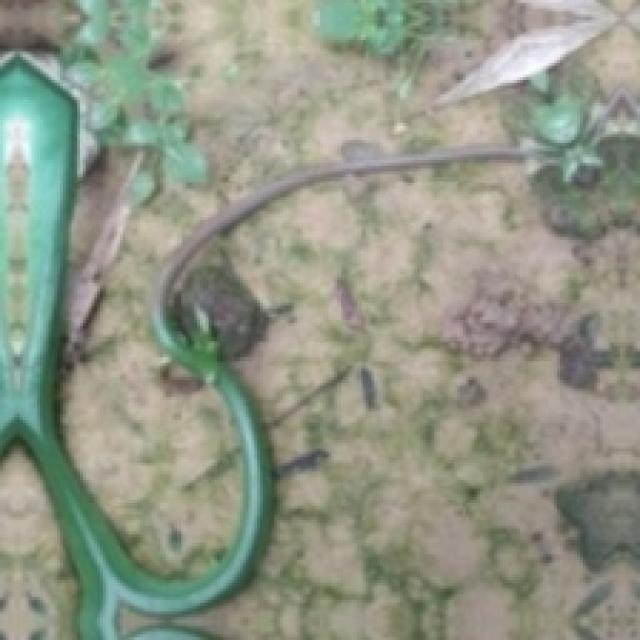red-tailed green ratsnake: (0, 55, 525, 640)
